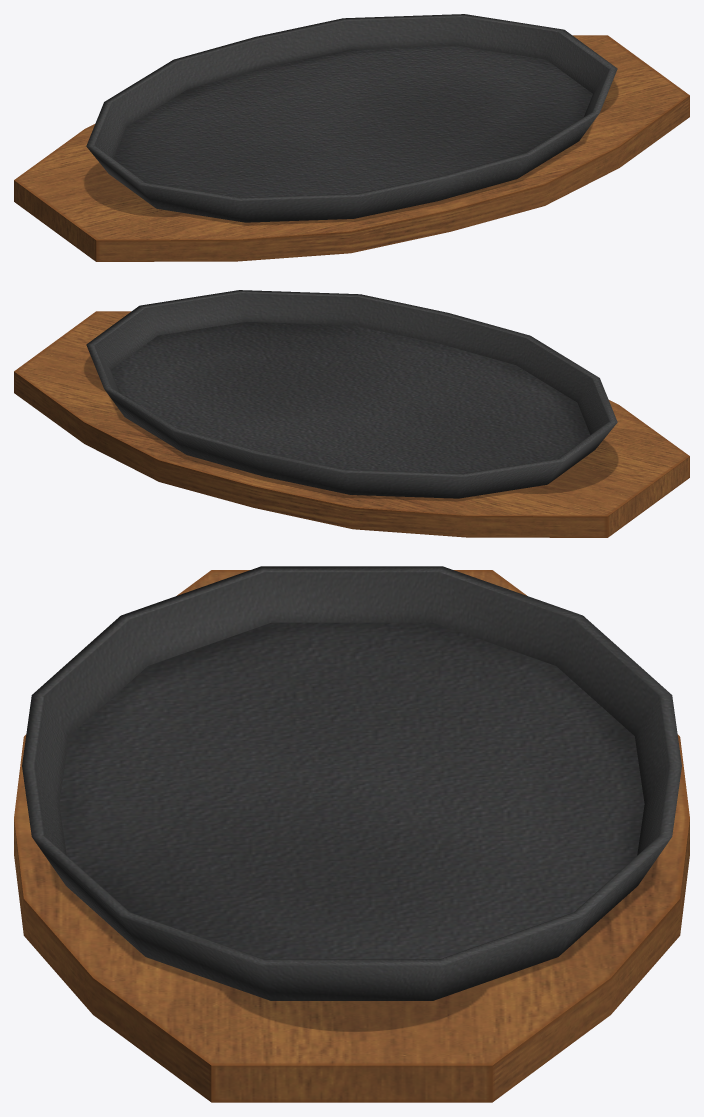
File: PlateSteak.fbx
3 views of the same model, one above another, from view 1: azimuth 30°, elevation 25°; view 2: azimuth 150°, elevation 25°; view 3: azimuth 270°, elevation 25° (orthographic). The views are drawn at different scales.
Visible parts, largest first — view 1: Empty_Mesh; view 2: Empty_Mesh; view 3: Empty_Mesh.
Part boxes in pixels (left/top/right/bottom): Empty_Mesh: left=14, top=14, right=689, bottom=261; Empty_Mesh: left=14, top=290, right=689, bottom=537; Empty_Mesh: left=14, top=566, right=689, bottom=1102.
Size of the model in its own units: 0.7182 by 0.06 by 0.414.
